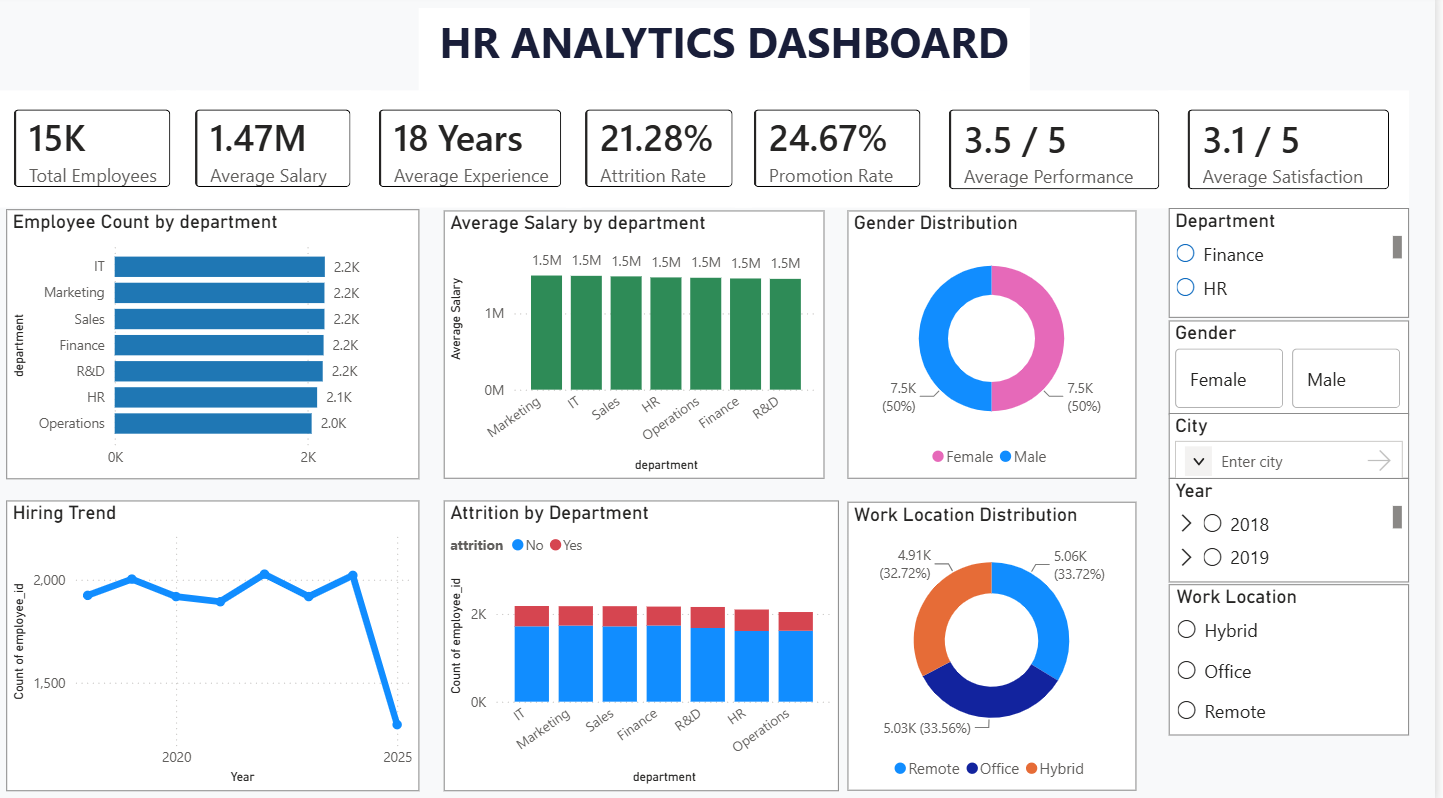

The dashboard page shown, as its layout file describes it:
{"tool":"powerbi","page":{"name":"Page 1","canvas":[1280,720],"ordinal":0},"visuals":[{"type":"cardVisual","fields":{"Data":["hr_data.Total Employees"]},"box":[0,86.9,173.7,103.8],"z":0},{"type":"cardVisual","fields":{"Data":["hr_data.Attrition Rate"]},"box":[507.5,86.8,165.1,103.9],"z":1000},{"type":"cardVisual","fields":{"Data":["hr_data.Average Performance"]},"box":[831.5,86.8,221.3,105.2],"z":2000},{"type":"cardVisual","fields":{"Data":["hr_data.Average Salary"]},"box":[161.4,86.8,172.4,103.9],"z":3000},{"type":"cardVisual","fields":{"Data":["hr_data.Promotion Rate"]},"box":[657.9,86.8,182.2,103.9],"z":4000},{"type":"cardVisual","fields":{"Data":["hr_data.Average Satisfaction"]},"box":[1043.1,86.8,214,105.2],"z":5000},{"type":"cardVisual","fields":{"Data":["hr_data.Average Experience"]},"box":[324.1,86.8,196.9,103.9],"z":6000},{"type":"clusteredBarChart","title":"Employee Count by department","fields":{"Category":["hr_data.department"],"Y":["CountNonNull(hr_data.employee_id)"]},"box":[9.8,192,366.8,239.7],"z":7000},{"type":"clusteredColumnChart","fields":{"Category":["hr_data.department"],"Y":["hr_data.Average Salary"]},"box":[398.6,193.2,338.7,238.5],"z":8000},{"type":"columnChart","title":"Attrition by Department","fields":{"Category":["hr_data.department"],"Y":["CountNonNull(hr_data.employee_id)"],"Series":["hr_data.attrition"]},"box":[398.6,451.2,351,258],"z":9000},{"type":"lineChart","title":"Hiring Trend","fields":{"Category":["hr_data.hire_date.Variation.Date Hierarchy.Year","hr_data.hire_date.Variation.Date Hierarchy.Quarter","hr_data.hire_date.Variation.Date Hierarchy.Month","hr_data.hire_date.Variation.Date Hierarchy.Day"],"Y":["CountNonNull(hr_data.employee_id)"]},"box":[9.8,451.2,366.8,258],"z":10000},{"type":"donutChart","title":"Gender Distribution","fields":{"Category":["hr_data.gender"],"Y":["CountNonNull(hr_data.employee_id)"]},"box":[758.2,193.2,256.8,238.5],"z":11000},{"type":"donutChart","title":"Work Location Distribution","fields":{"Category":["hr_data.work_location"],"Y":["CountNonNull(hr_data.employee_id)"]},"box":[758.2,452.4,256.8,256.8],"z":12000},{"type":"textbox","box":[376.6,13.5,542.9,73.4],"z":13000},{"type":"listSlicer","title":"Department","fields":{"Values":["hr_data.department"]},"box":[1043.1,190.8,214,97.8],"z":14000},{"type":"advancedSlicerVisual","title":"Gender","fields":{"Values":["hr_data.gender"]},"box":[1043.1,291,214,84.4],"z":15000},{"type":"listSlicer","title":"Work Location","fields":{"Values":["hr_data.work_location"]},"box":[1043.1,525.8,214,134.5],"z":16000},{"type":"textSlicer","title":"City","fields":{"Values":["hr_data.city"]},"box":[1043.1,373,214,58.7],"z":17000},{"type":"listSlicer","fields":{"Values":["hr_data.hire_date.Variation.Date Hierarchy.Year","hr_data.hire_date.Variation.Date Hierarchy.Quarter","hr_data.hire_date.Variation.Date Hierarchy.Month","hr_data.hire_date.Variation.Date Hierarchy.Day"]},"box":[1043.1,431.7,214,92.9],"z":18000}]}

Visuals, with their boxes in screenshot pixels (x1, y1, x2, y2), scaled from the page's 1280x720 canvas onto the 1443x798 screenshot:
cardVisual - hr_data.Total Employees: 0, 96, 196, 211
cardVisual - hr_data.Attrition Rate: 572, 96, 758, 211
cardVisual - hr_data.Average Performance: 937, 96, 1187, 213
cardVisual - hr_data.Average Salary: 182, 96, 376, 211
cardVisual - hr_data.Promotion Rate: 742, 96, 947, 211
cardVisual - hr_data.Average Satisfaction: 1176, 96, 1417, 213
cardVisual - hr_data.Average Experience: 365, 96, 587, 211
"Employee Count by department" clusteredBarChart: 11, 213, 425, 478
clusteredColumnChart - hr_data.department x hr_data.Average Salary: 449, 214, 831, 478
"Attrition by Department" columnChart: 449, 500, 845, 786
"Hiring Trend" lineChart: 11, 500, 425, 786
"Gender Distribution" donutChart: 855, 214, 1144, 478
"Work Location Distribution" donutChart: 855, 501, 1144, 786
textbox: 425, 15, 1037, 96
"Department" listSlicer: 1176, 211, 1417, 320
"Gender" advancedSlicerVisual: 1176, 323, 1417, 416
"Work Location" listSlicer: 1176, 583, 1417, 732
"City" textSlicer: 1176, 413, 1417, 478
listSlicer - hr_data.hire_date.Variation.Date Hierarchy.Year x hr_data.hire_date.Variation.Date Hierarchy.Quarter: 1176, 478, 1417, 581
